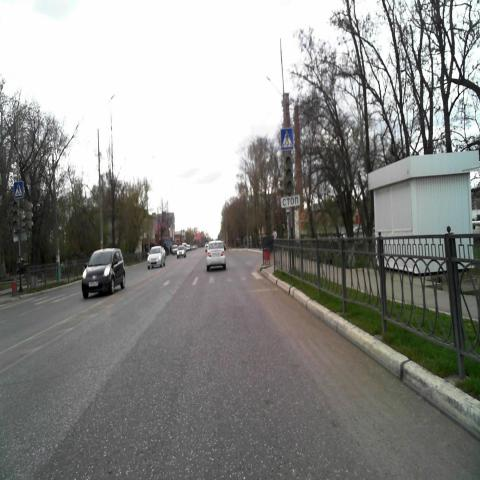6_16: (282, 194, 300, 208)
